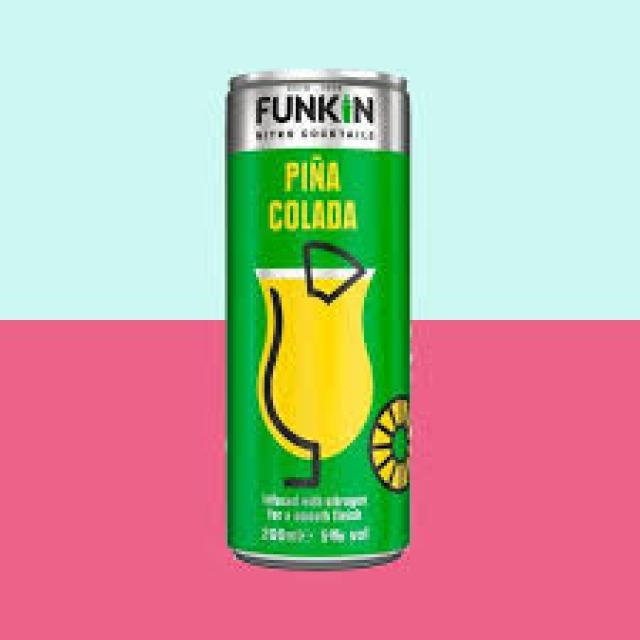Cans: (205, 66, 429, 577)
